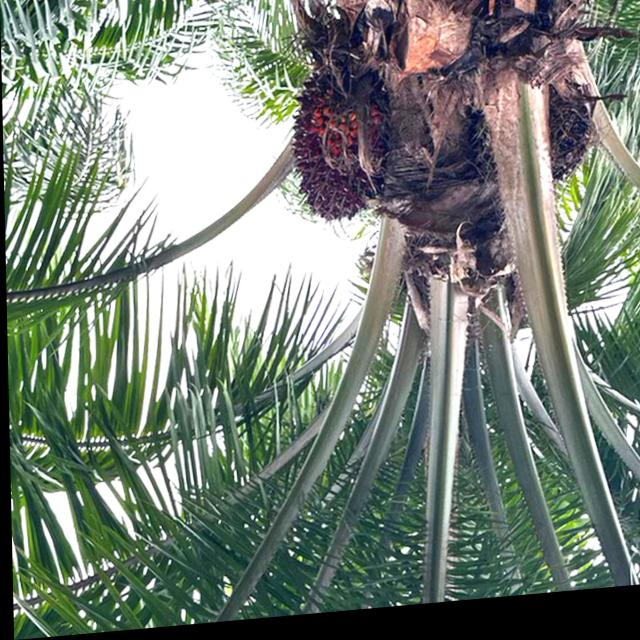ripe: (276, 76, 399, 245)
